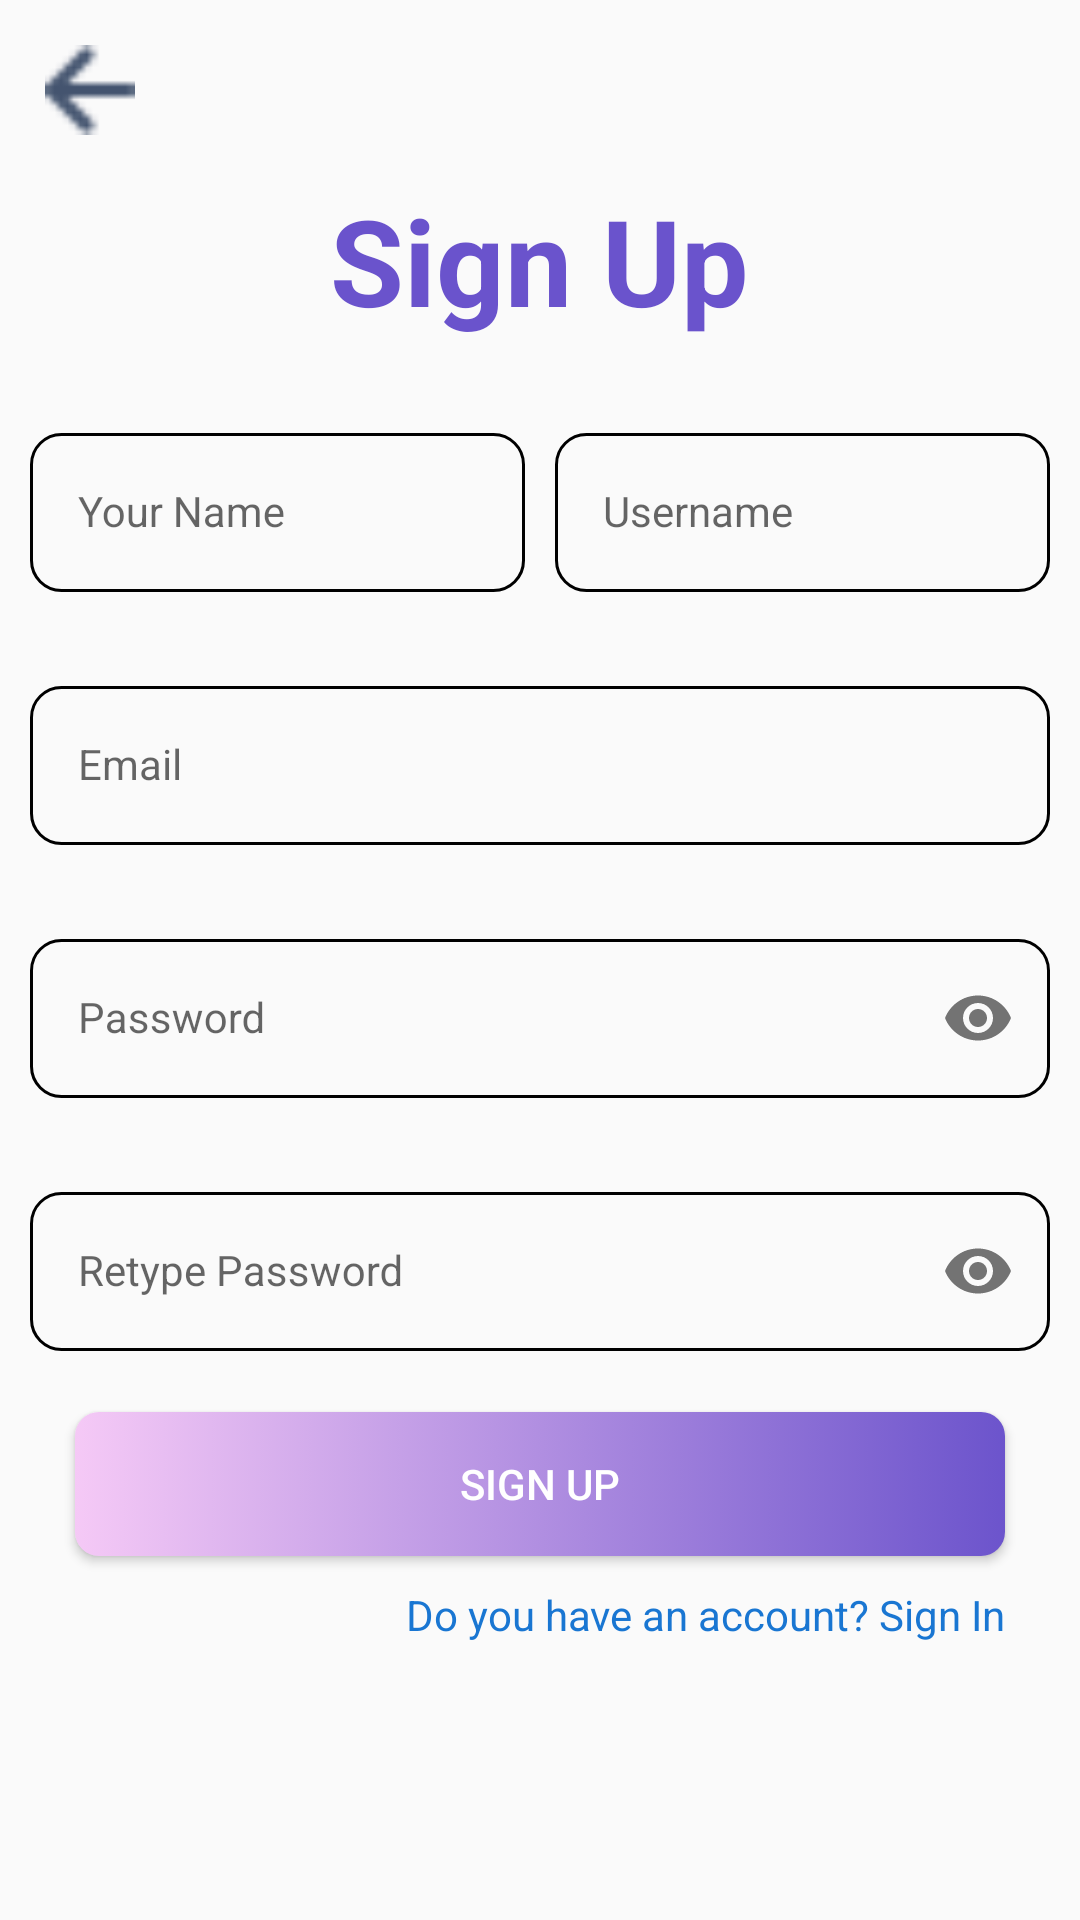

Screen size 1080*1920. Icon name, then its box in pixels as rect(x1, y1, x2, y2):
left back: rect(45, 45, 135, 135)
